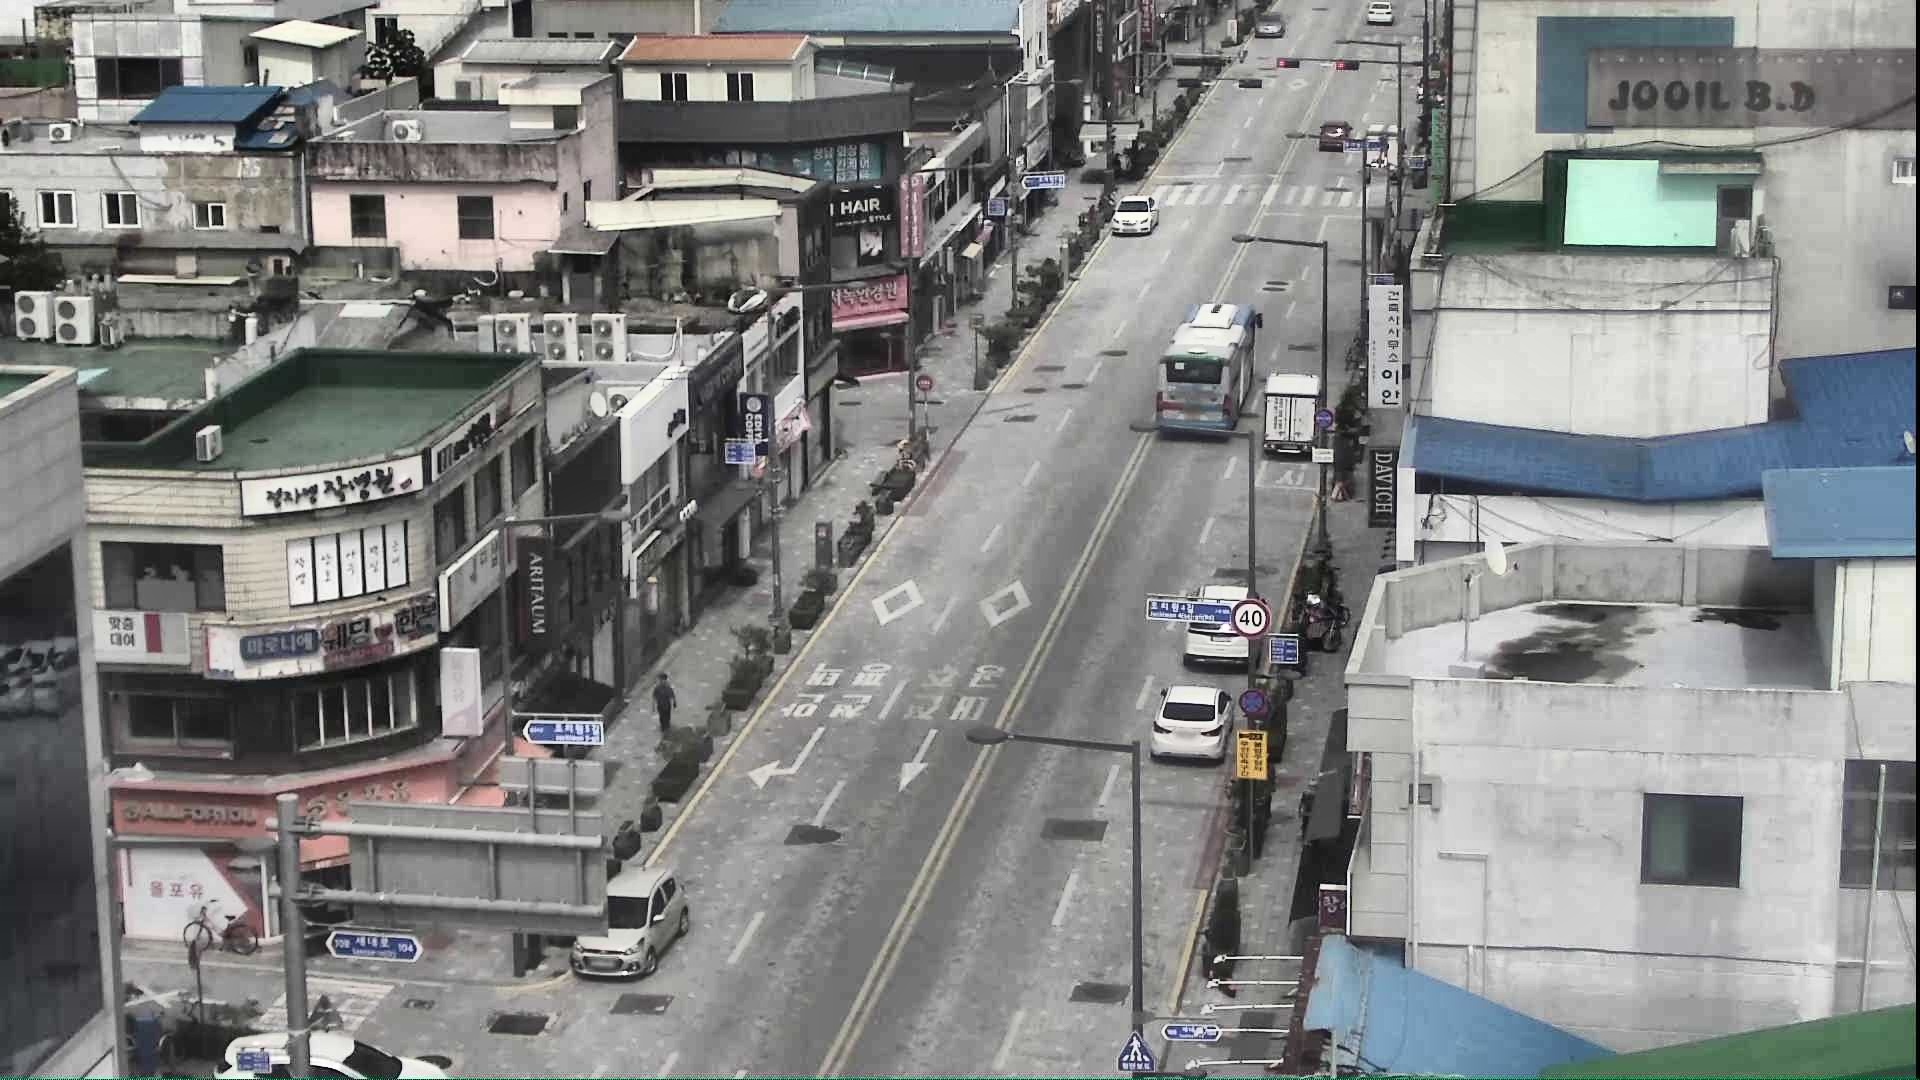sidewalk: (651, 667, 676, 742)
